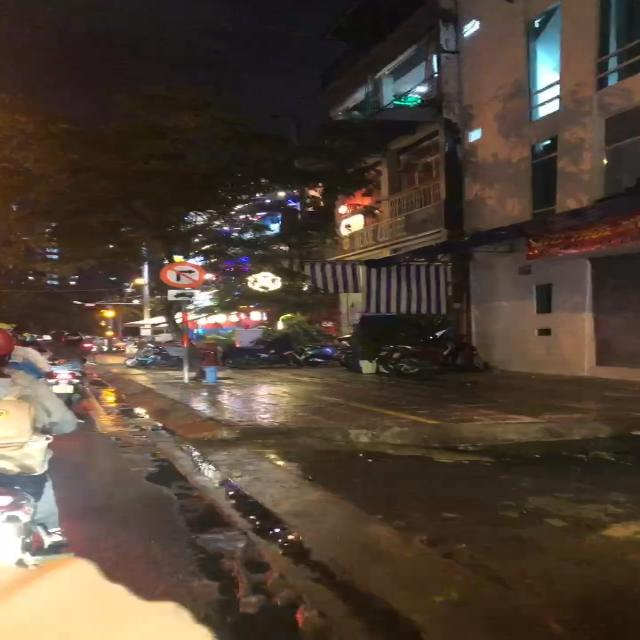Bien bao cam re phai: (155, 260, 214, 290)
